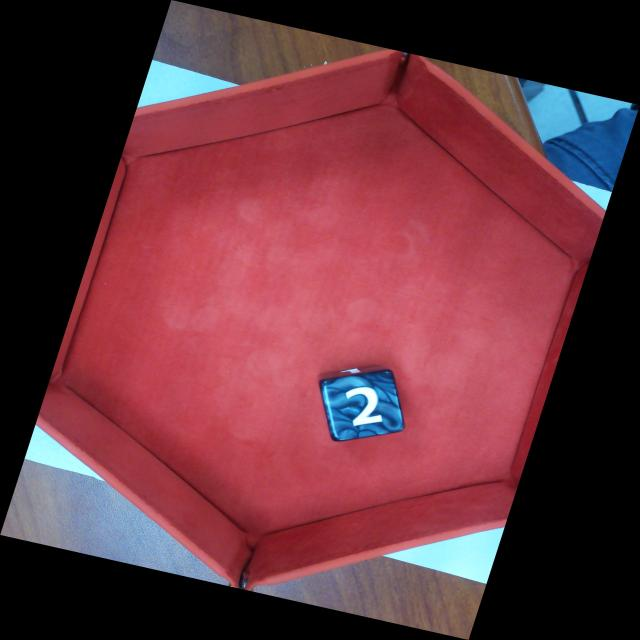dice: (317, 367, 407, 443)
